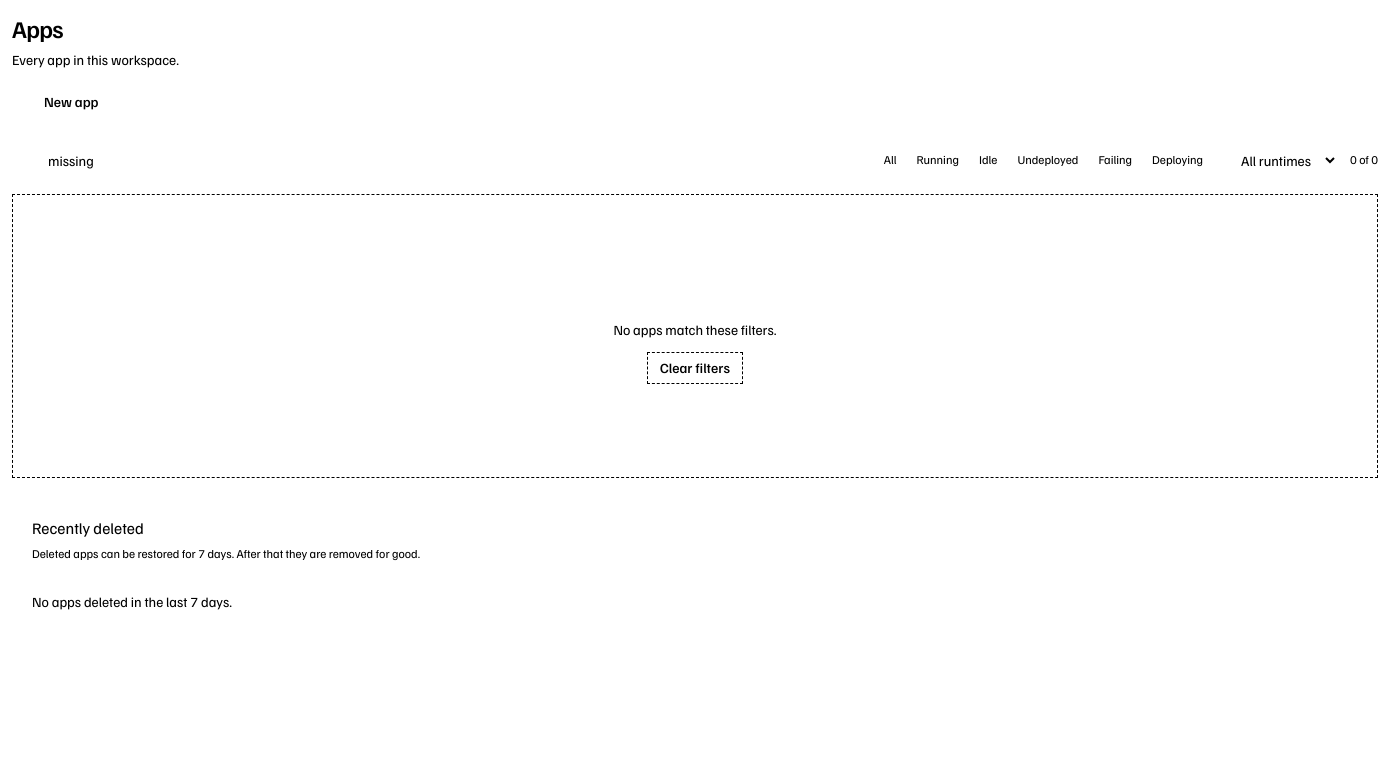
Scenario: Apps polish › clears only App filters and preserves unrelated URL context
The image size is (1390, 780).
Step 1. Click the button "Clear filters" → (695, 368), box [647,352,743,384]
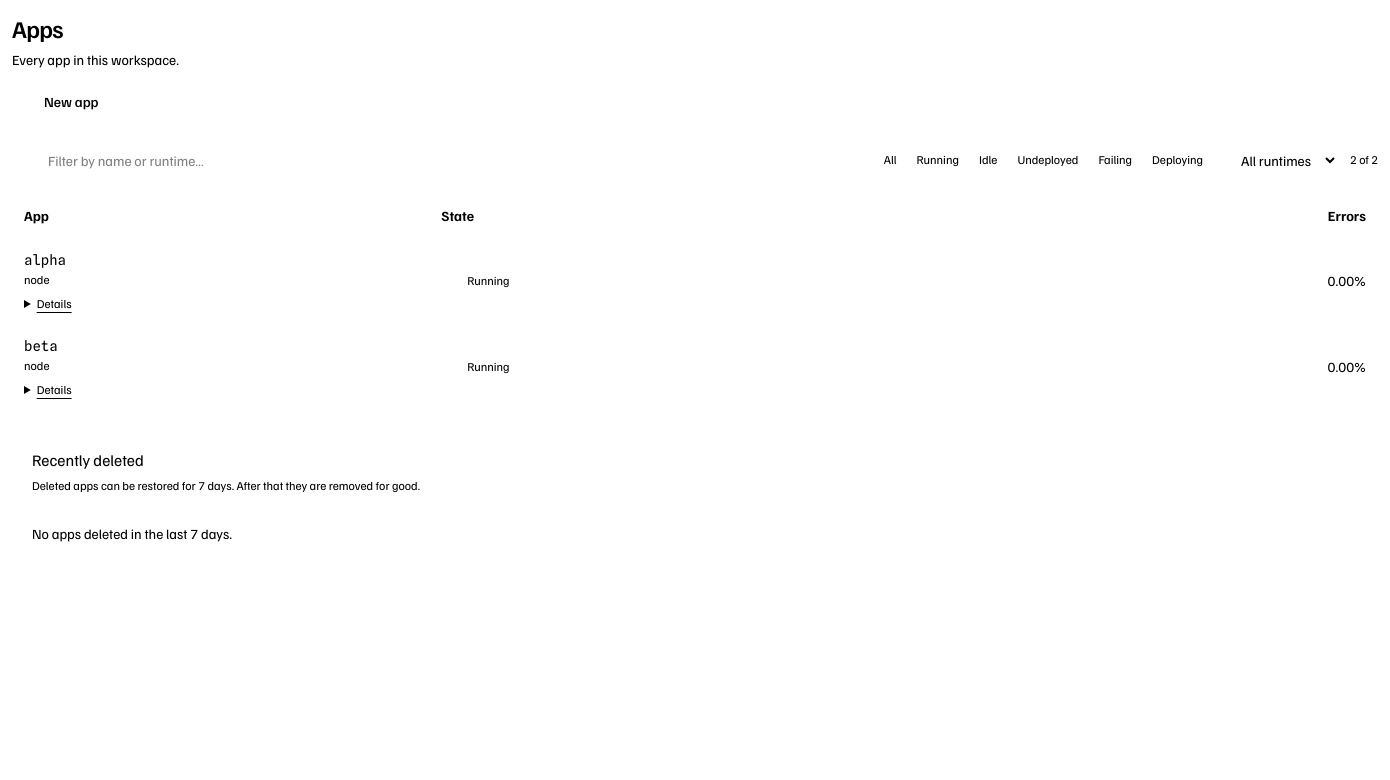
Expected: the button "alpha node Details Running 0.00%" is shown, [12,238,1378,324]
